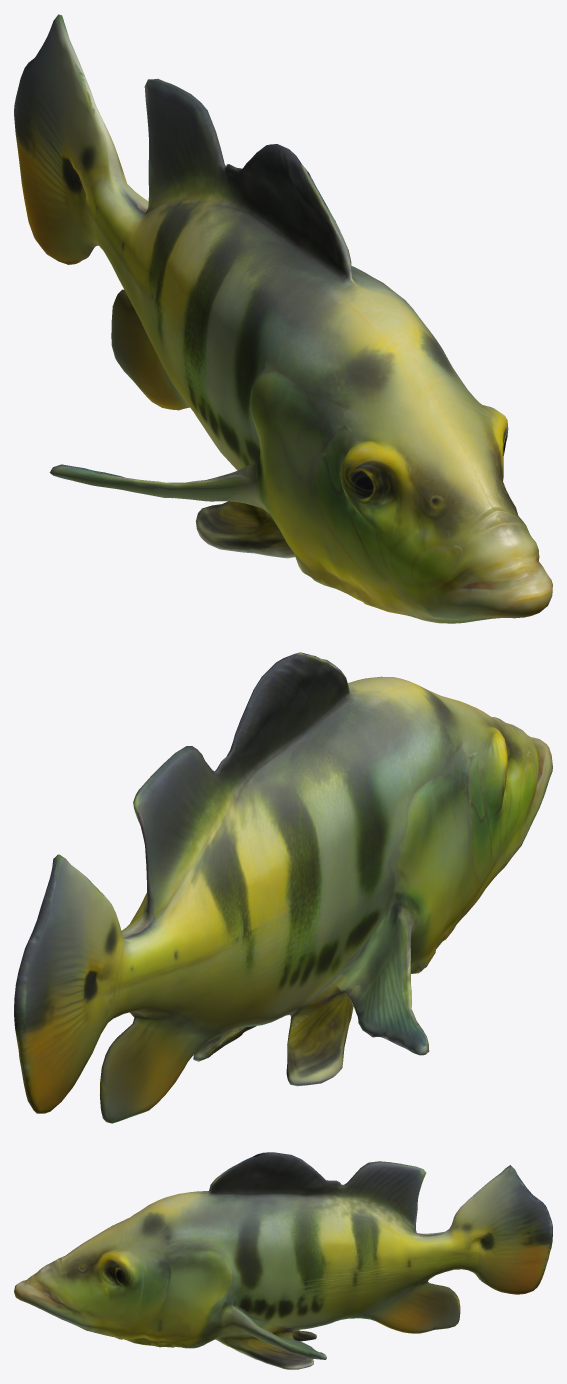
File: pbass_0604063338_texture.glb
3 views of the same model, one above another, from view 1: azimuth 30°, elevation 25°; view 2: azimuth 150°, elevation 25°; view 3: azimuth 270°, elevation 25° (orthographic). The views are drawn at different scales.
Size of the model in its own units: 0.8495 by 0.83 by 2.
Materials: 1 (1 with a texture image).
